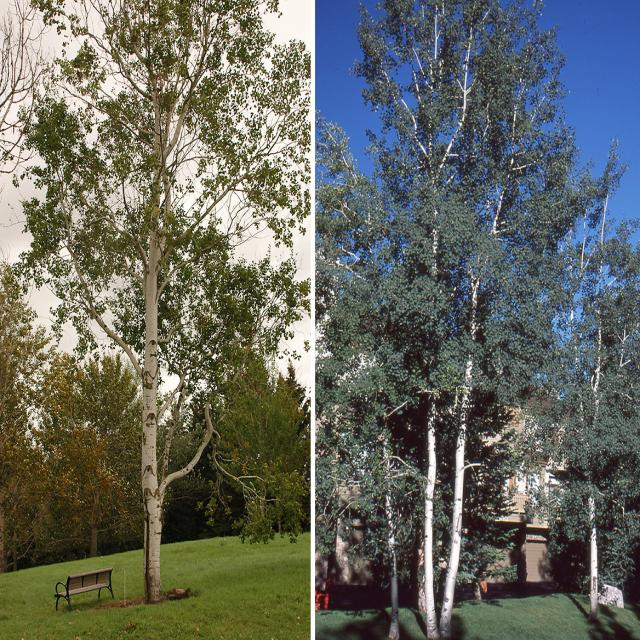Populus tremuloides: (22, 1, 308, 598), (331, 0, 567, 627), (511, 77, 640, 616)
